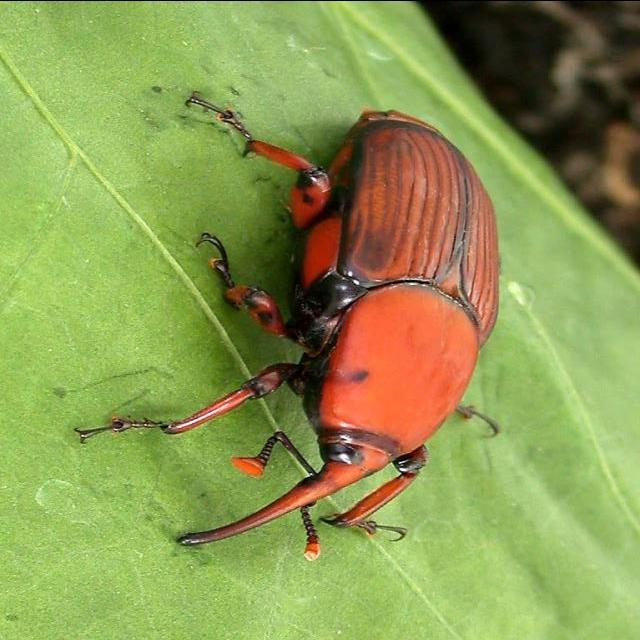Red-palm-weevil: (176, 90, 502, 559)
